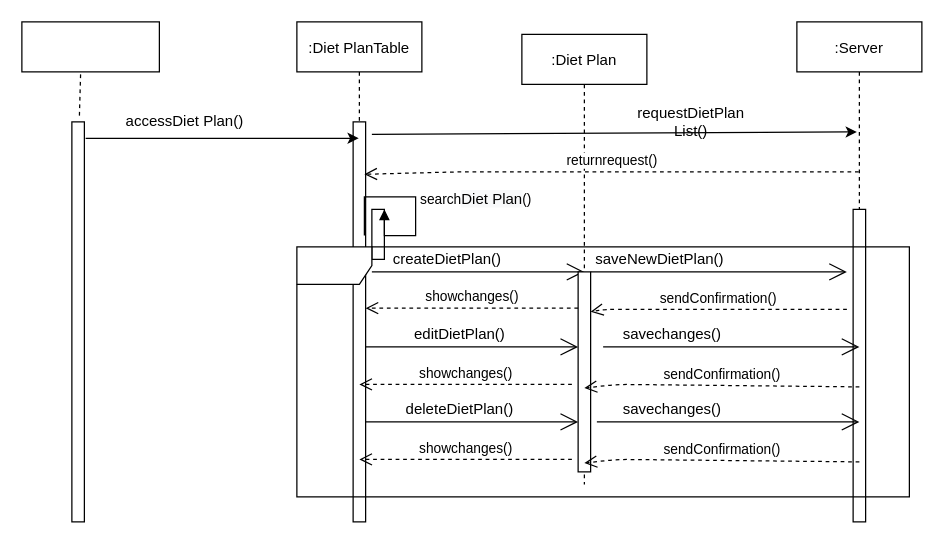
The diagram is 944 pixels wide and 544 high, and some of its shapes have lost their labels. The centre of each missing label's shape, as x and y in pixels:
":Admin Page" goes at (90,46).
"alt" goes at (602,371).
